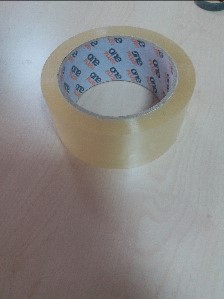band: (34, 16, 201, 177)
